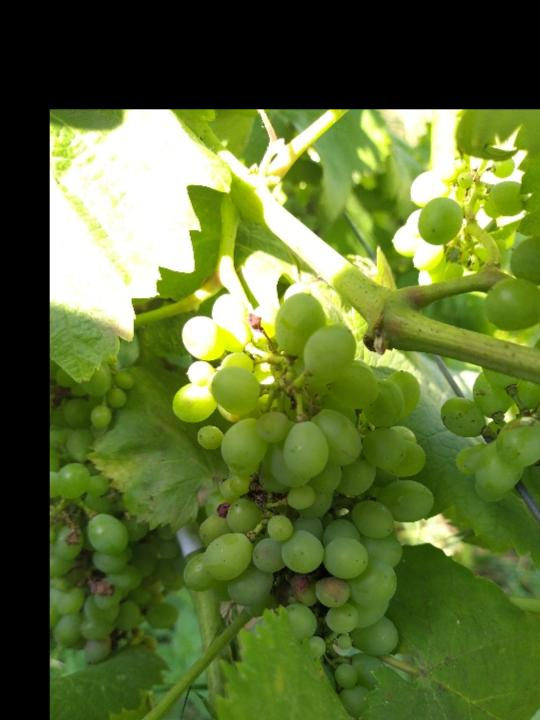grape: (170, 284, 434, 720)
